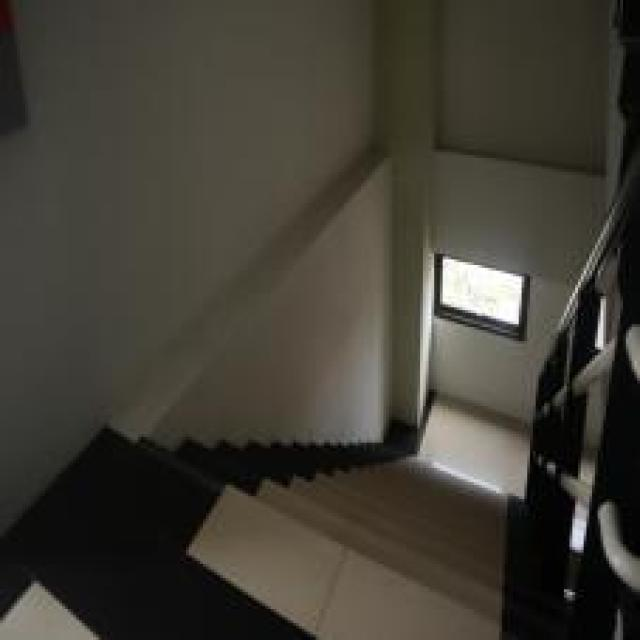downstair: (190, 441, 548, 638)
